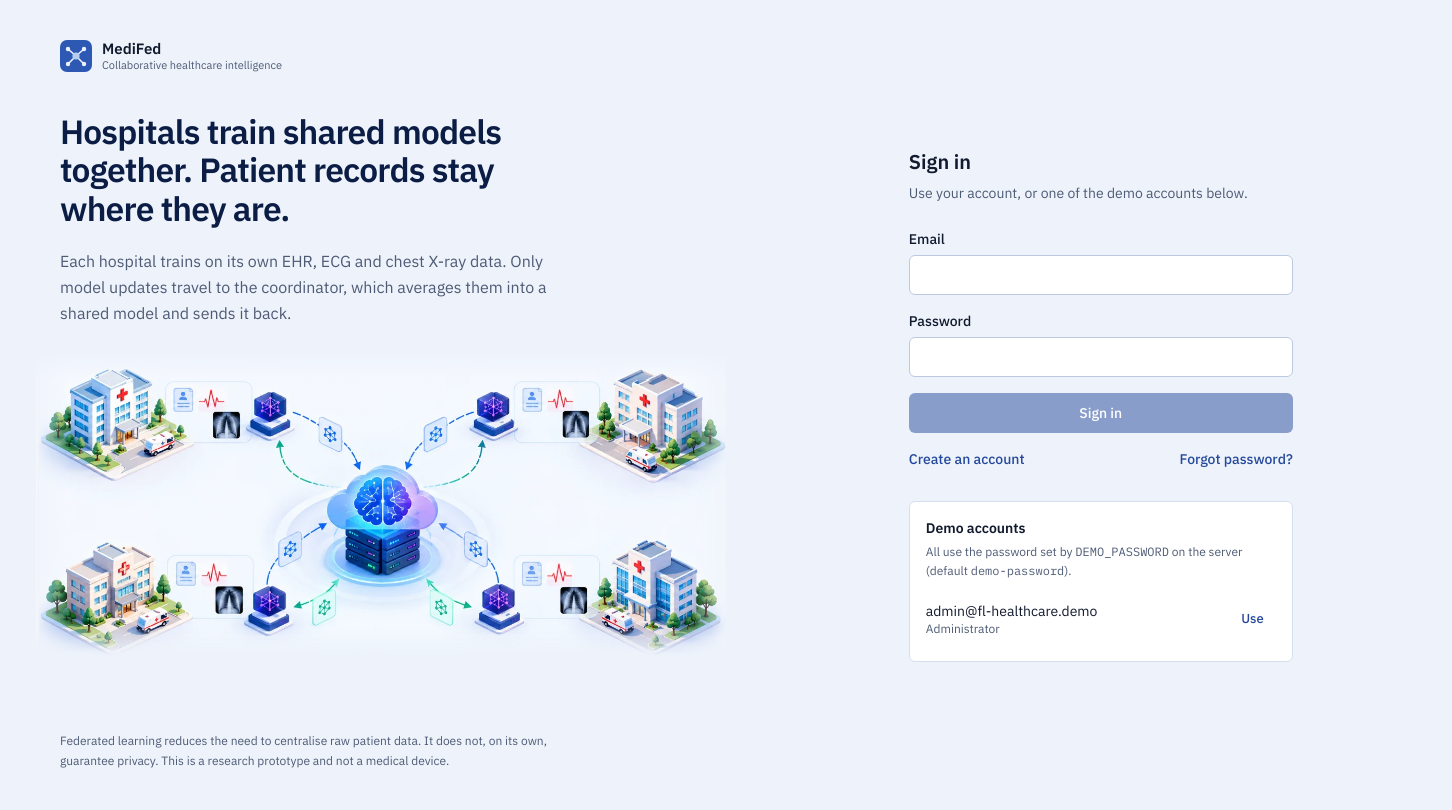
Test: routing and authentication › shows the server message when sign-in is rejected and stays on the page
The image size is (1452, 810).
Type "admin@fl-healthcare.demo" into the field labelled "Email".
click(1101, 275); type("admin@fl-healthcare.demo")  # box [909,255,1293,295]
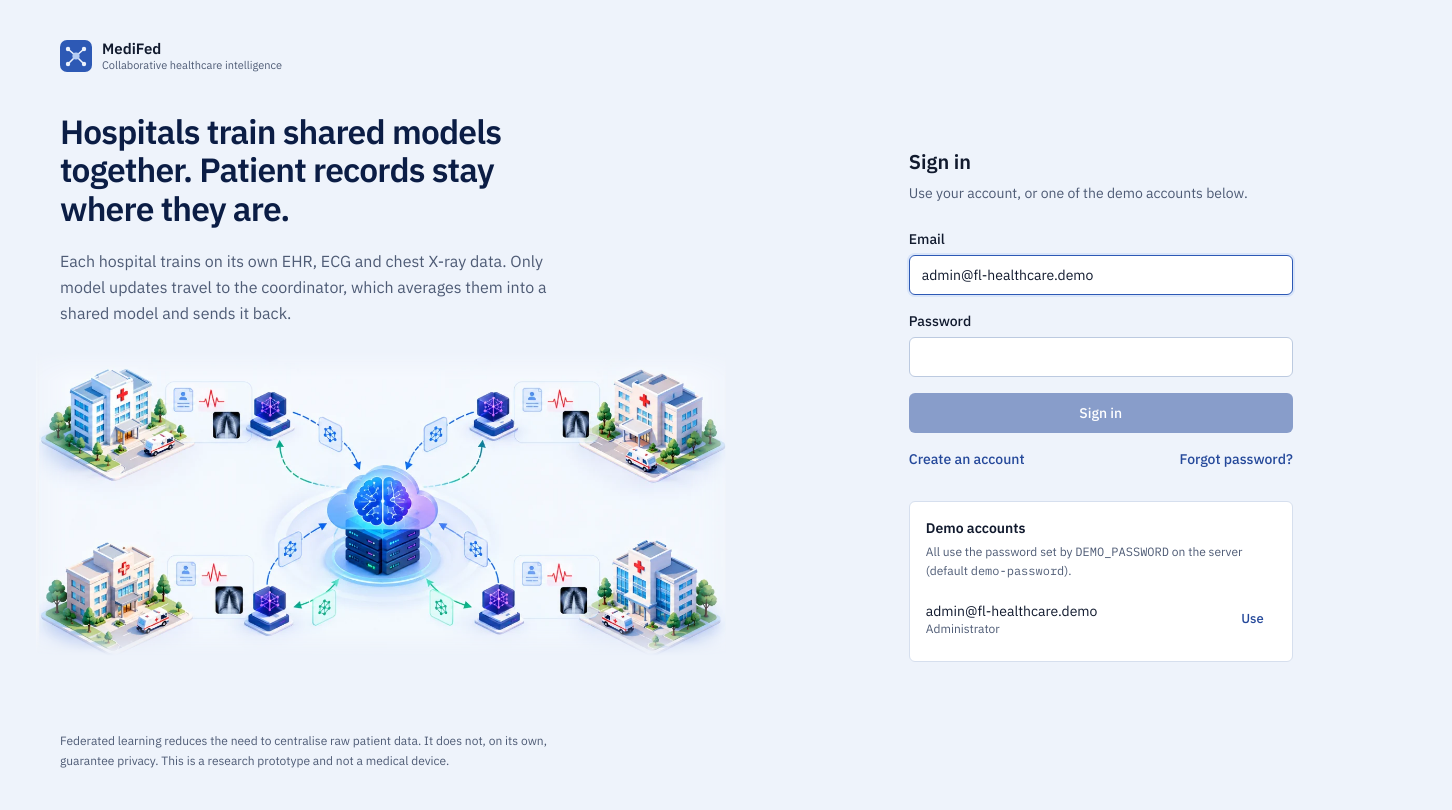
Type "wrong" into the password field labelled "Password".
click(1101, 357); type("wrong")  # box [909,337,1293,377]
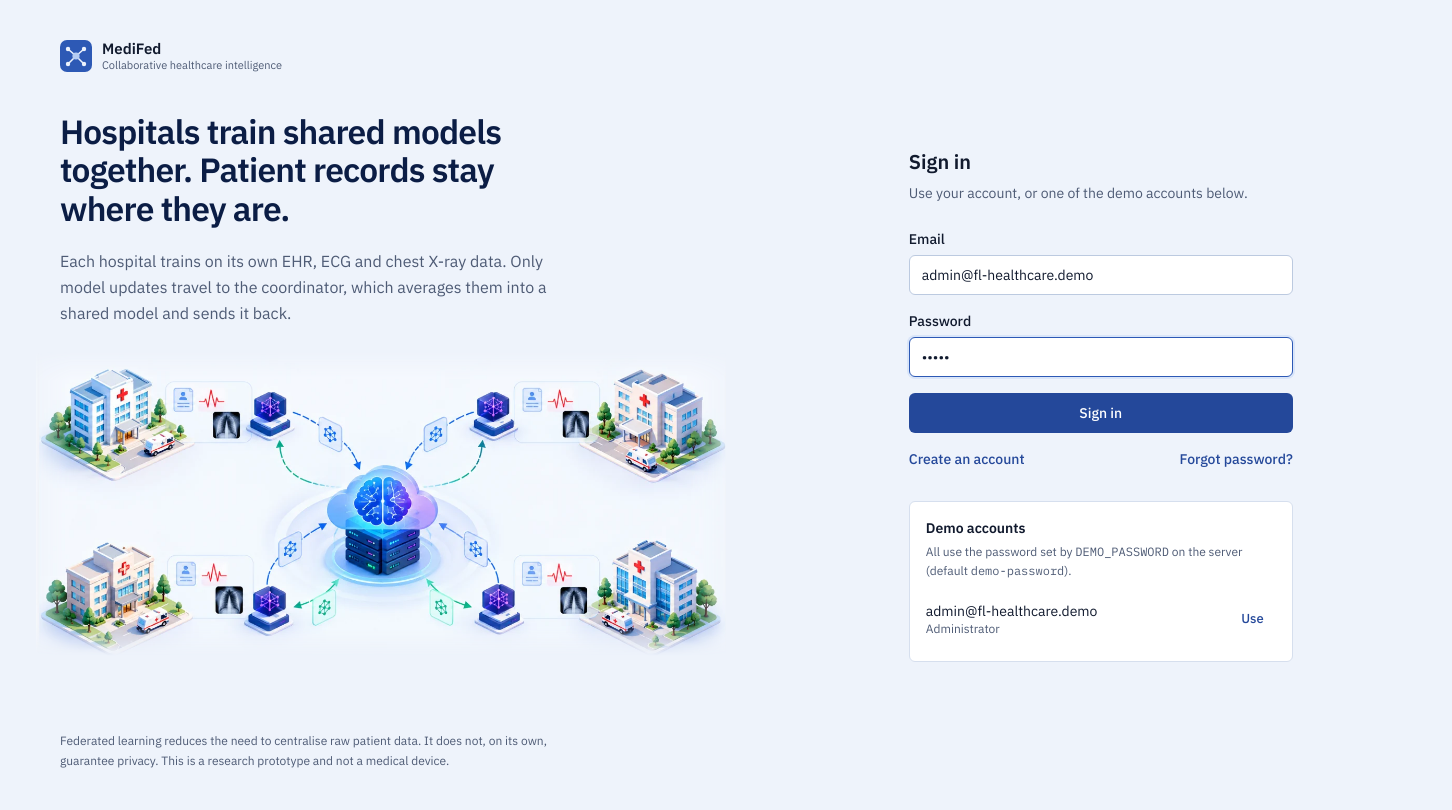
Click the button "Sign in".
click(1101, 413)  # box [909,393,1293,433]
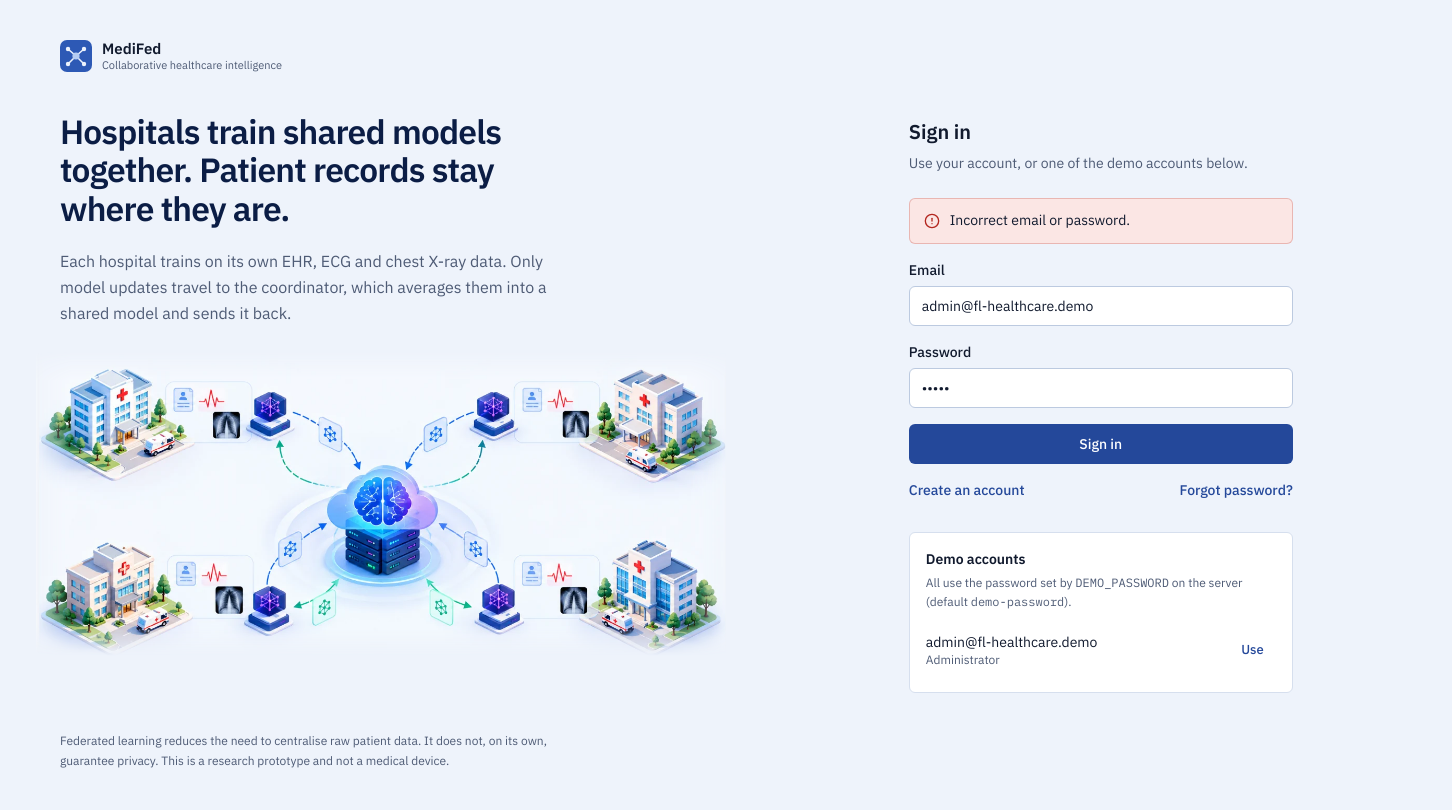
Check: the message reads "Incorrect email or password.", box [950,211,1130,229]
